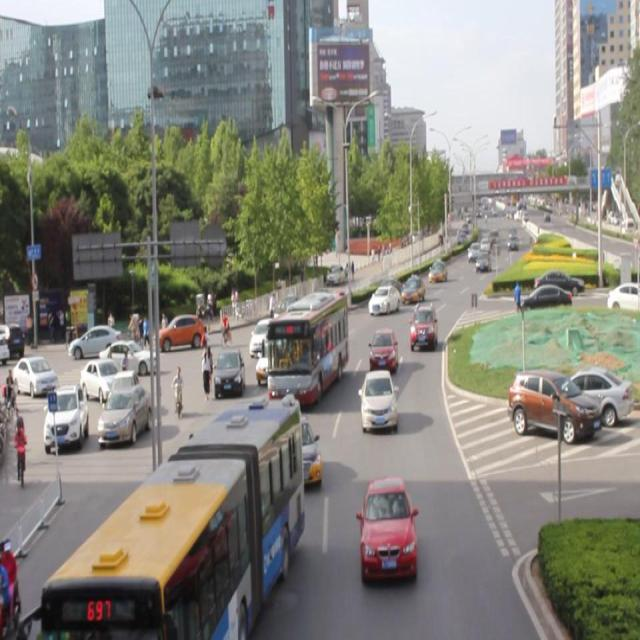car: (359, 474, 416, 577), (269, 403, 321, 479), (360, 369, 395, 429), (211, 337, 245, 392), (255, 335, 294, 376), (248, 308, 281, 352), (280, 303, 313, 346), (368, 326, 397, 371), (408, 299, 436, 345), (366, 282, 398, 314), (399, 274, 424, 302), (376, 274, 400, 300), (426, 257, 446, 282)
van: (59, 406, 298, 640), (268, 291, 348, 398)
